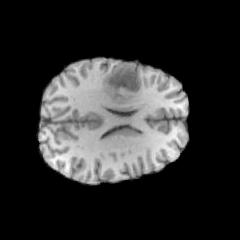glioma: (102, 62, 143, 103)
